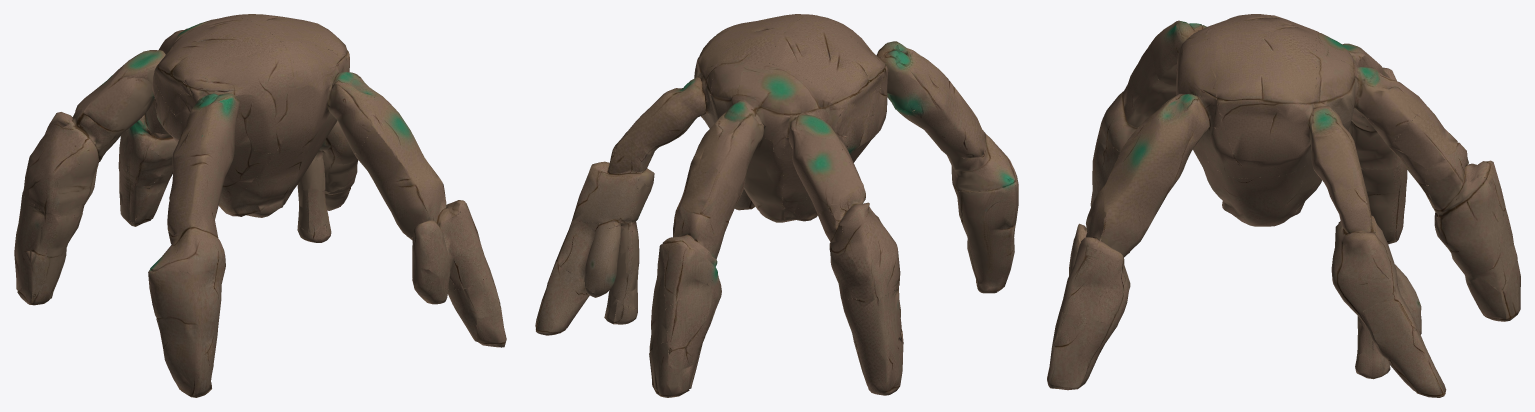
Rendered from rocky.obj.
3 views of the same model, side by side, from view 1: azimuth 30°, elevation 25°; view 2: azimuth 150°, elevation 25°; view 3: azimuth 270°, elevation 25° (orthographic). The views are drawn at different scales.
Visible parts, largest first — view 1: obj1_mat0; view 2: obj1_mat0; view 3: obj1_mat0.
Boxes of the visible parts, left/top/right/bottom form: obj1_mat0: left=14, top=14, right=506, bottom=397; obj1_mat0: left=535, top=14, right=1018, bottom=397; obj1_mat0: left=1047, top=14, right=1520, bottom=397.
Size of the model in its own units: 0.8397 by 0.6664 by 1.
1 material, 1 textured.
